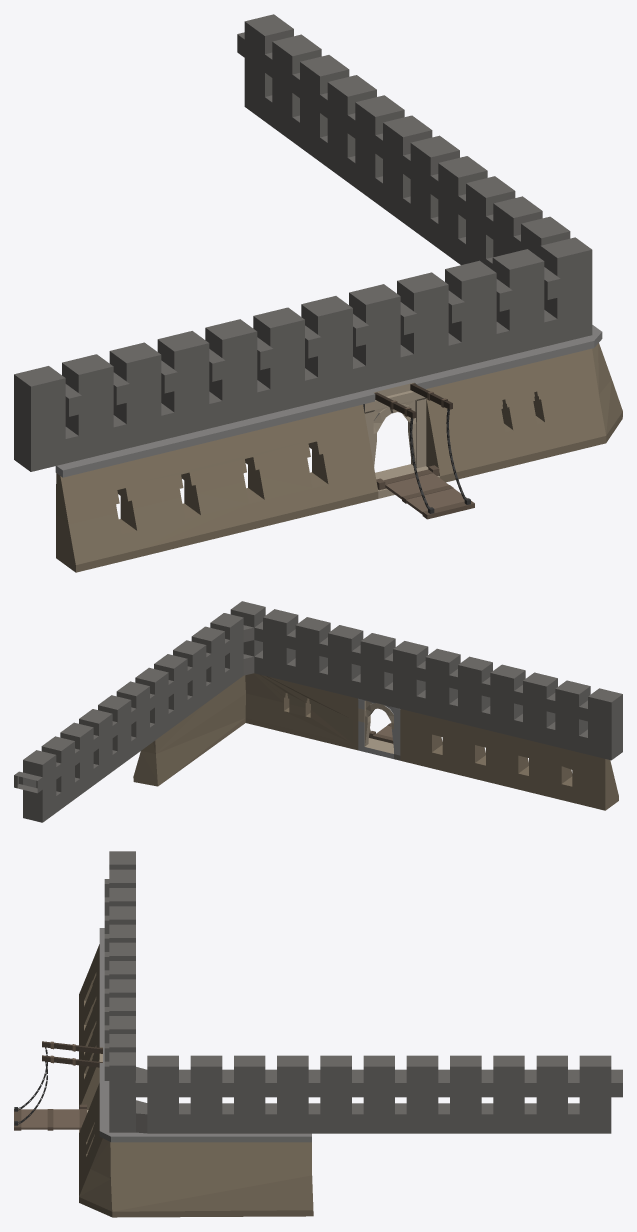
Rendered from Chateau.fbx.
3 views of the same model, one above another, from view 1: azimuth 30°, elevation 25°; view 2: azimuth 150°, elevation 25°; view 3: azimuth 270°, elevation 25° (orthographic). The views are drawn at different scales.
Parts seen in each view (by area): view 1: polySurface3; view 2: polySurface3; view 3: polySurface3.
Boxes of the visible parts, left/top/right/bottom form: polySurface3: left=14, top=14, right=622, bottom=572; polySurface3: left=14, top=601, right=622, bottom=822; polySurface3: left=14, top=851, right=622, bottom=1217.
Bounding box in the file's own units: 373 × 107 × 423.
